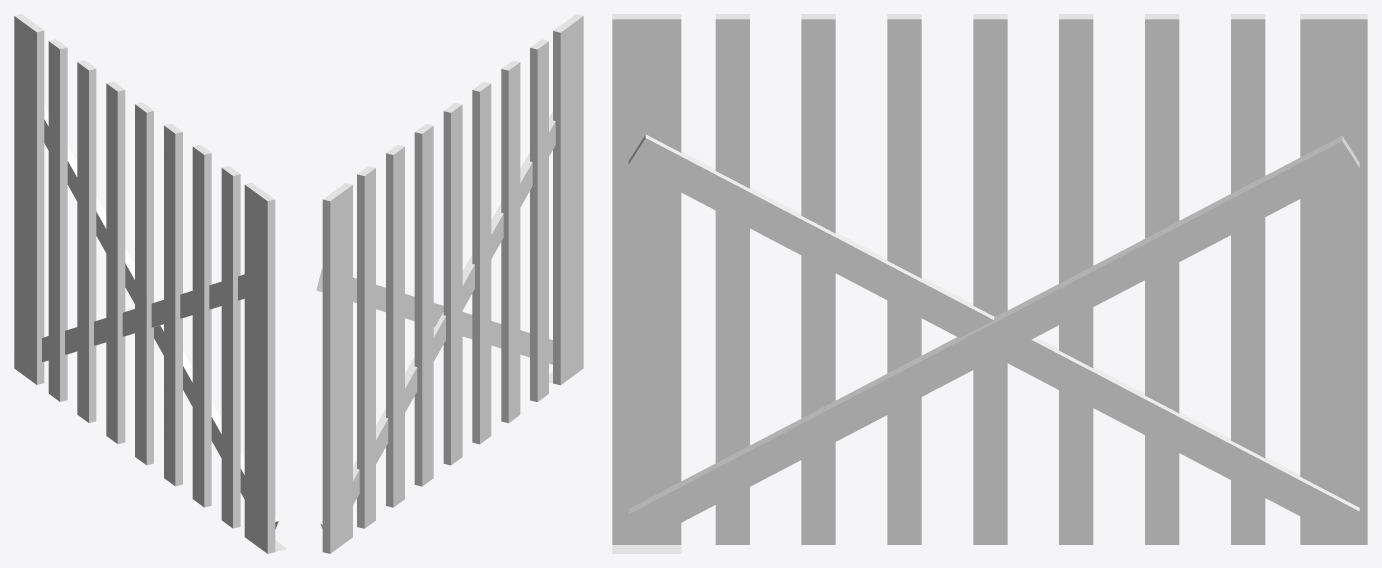
File: SM_fence_101gate.gltf
The picture shows the model from 3 angles, left to right: view 1: azimuth 30°, elevation 25°; view 2: azimuth 150°, elevation 25°; view 3: azimuth 270°, elevation 25°; orthographic projection. The views are drawn at different scales.
Parts seen in each view (by area): view 1: SM_fence_101gate; view 2: SM_fence_101gate; view 3: SM_fence_101gate.
Boxes of the visible parts, box(x1,y1,x2,y2) form: SM_fence_101gate: box(14, 14, 286, 553); SM_fence_101gate: box(316, 14, 583, 553); SM_fence_101gate: box(612, 14, 1367, 553).
Size of the model in its own units: 0.0804 by 1.35 by 1.76.
1 material, 1 textured.
